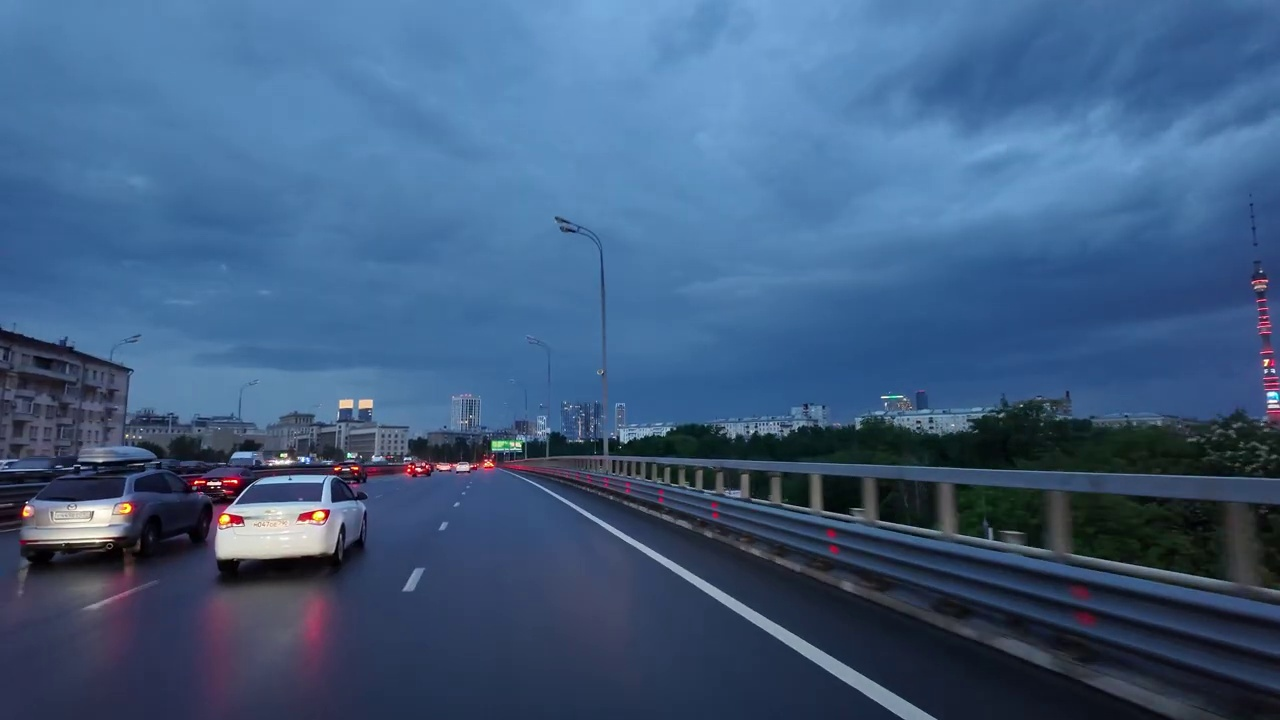apagada: (549, 212, 582, 240)
